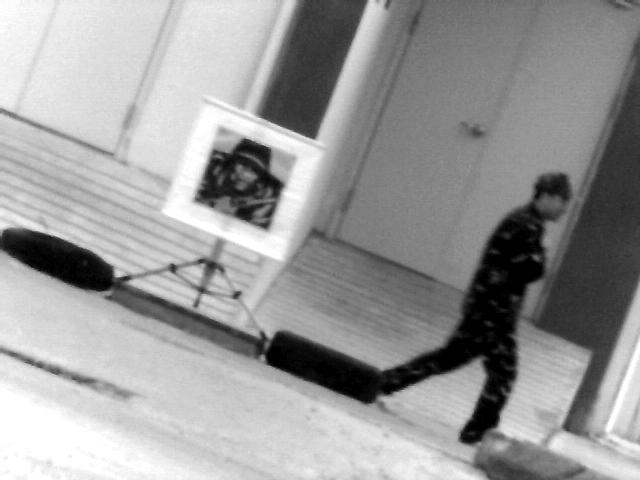bia: (185, 123, 303, 235)
chan: (105, 208, 292, 340)
